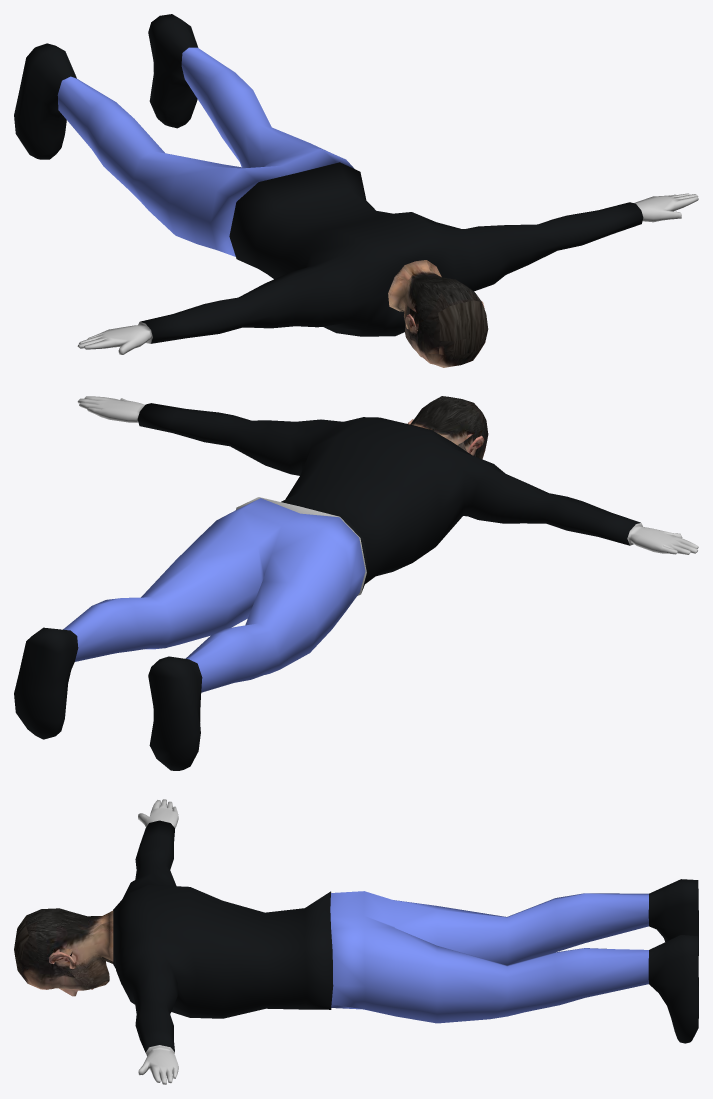
Rendered from Character.obj.
The picture shows the model from 3 angles, top to bottom: view 1: azimuth 30°, elevation 25°; view 2: azimuth 150°, elevation 25°; view 3: azimuth 270°, elevation 25°; orthographic projection. The views are drawn at different scales.
Parts seen in each view (by area): view 1: LowPoly_Male_B_Mesh.001; view 2: LowPoly_Male_B_Mesh.001; view 3: LowPoly_Male_B_Mesh.001.
Part boxes in pixels (x1,y1,x2,y2): LowPoly_Male_B_Mesh.001: [14, 14, 698, 367]; LowPoly_Male_B_Mesh.001: [14, 396, 698, 770]; LowPoly_Male_B_Mesh.001: [14, 799, 698, 1084].
Size of the model in its own units: 1.86 by 0.3418 by 1.9.
